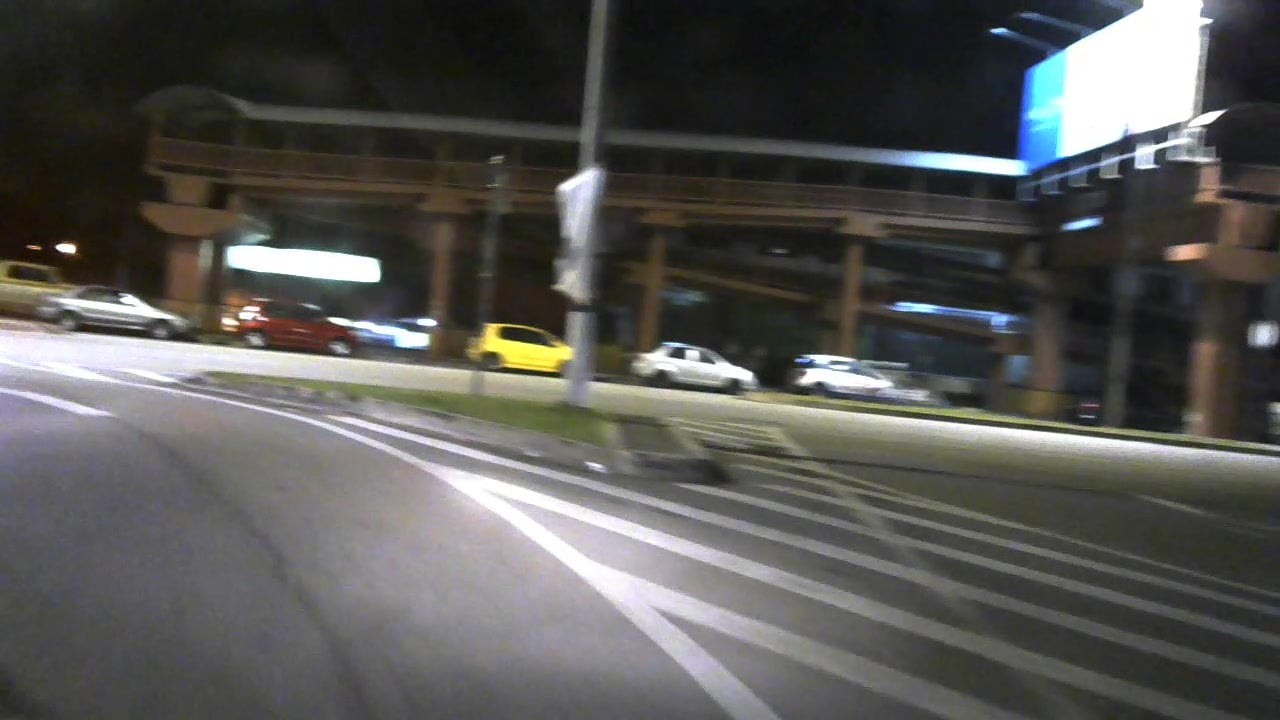Car: (36, 284, 199, 337), (225, 297, 371, 352), (626, 340, 769, 392), (464, 317, 587, 372), (787, 354, 902, 396)
